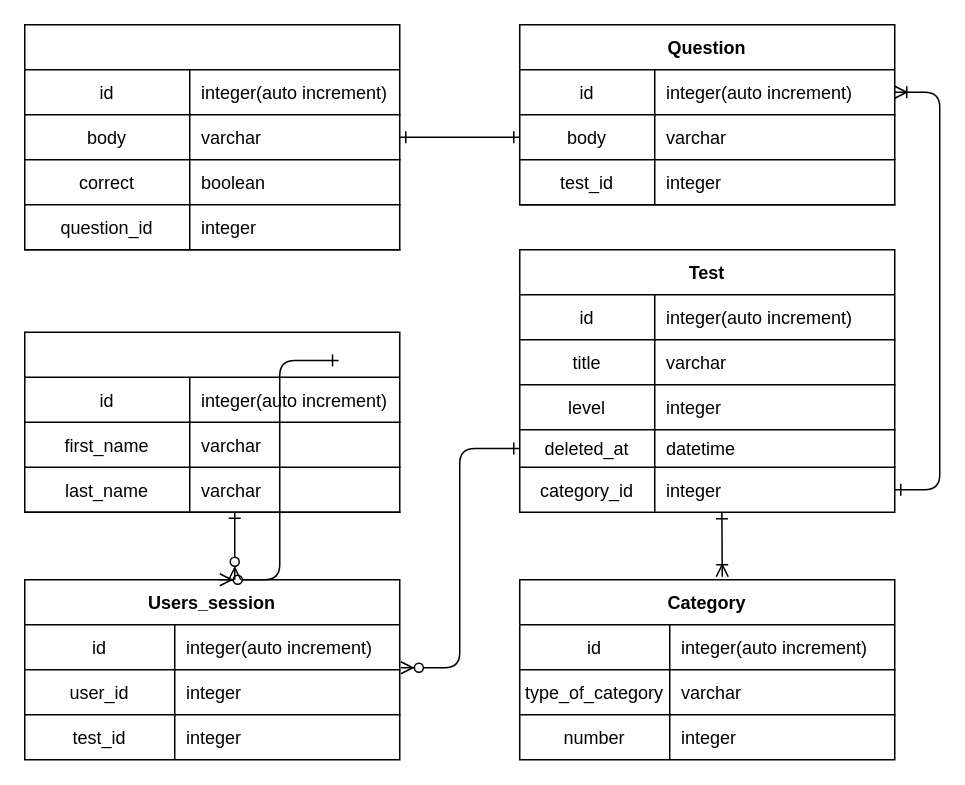
The diagram is 965 pixels wide and 785 high, and some of its shapes have lost their labels. The box of each missing label's shape, as (x1, y1, x2, y2) in pixels:
Answer: (23, 23, 400, 250)
User: (23, 331, 400, 512)
